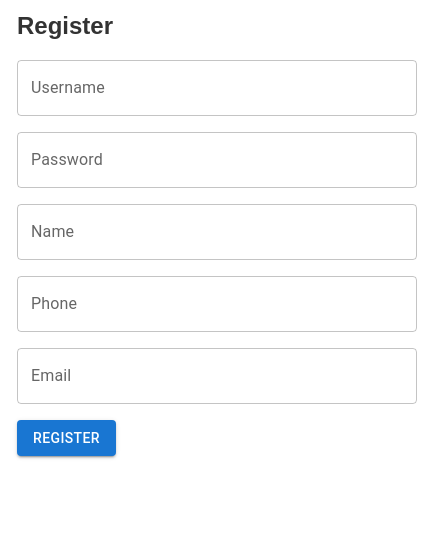
Test case: Registration Component › shows validation errors for empty fields
What coordinates should you click on to do the following:
click the button "Register"
I would click on:
 (66, 438)
Its box is [17,420,116,456].
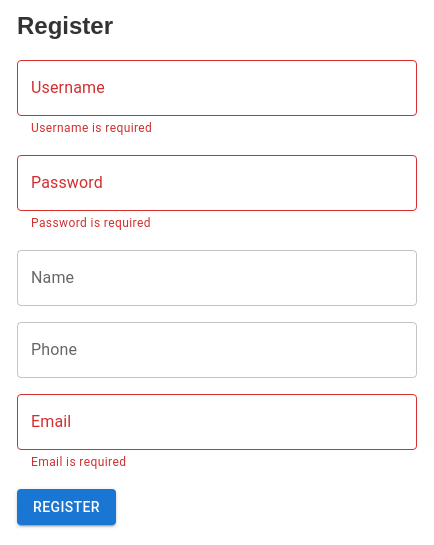
Now the text "Username is required" is shown, box [31,121,152,135]
Now the text "Password is required" is shown, box [31,216,151,230]
Now the text "Email is required" is shown, box [31,455,126,469]
